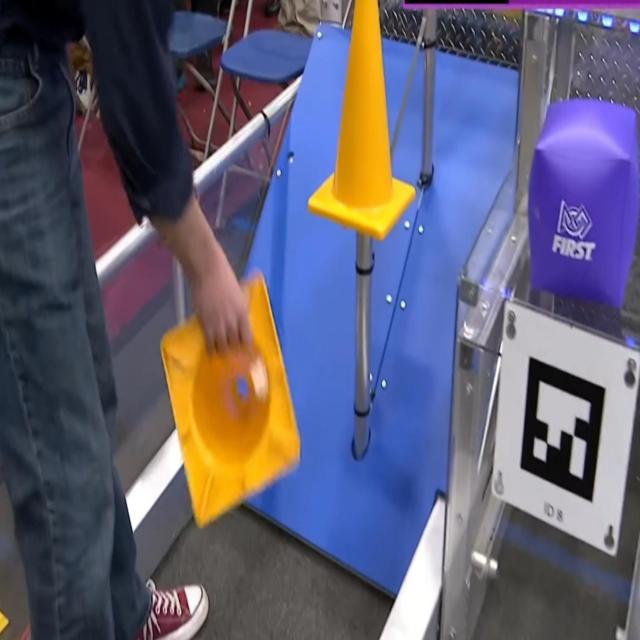frc_cone: (155, 259, 305, 536), (308, 0, 416, 242)
frc_cube: (529, 95, 640, 308)
